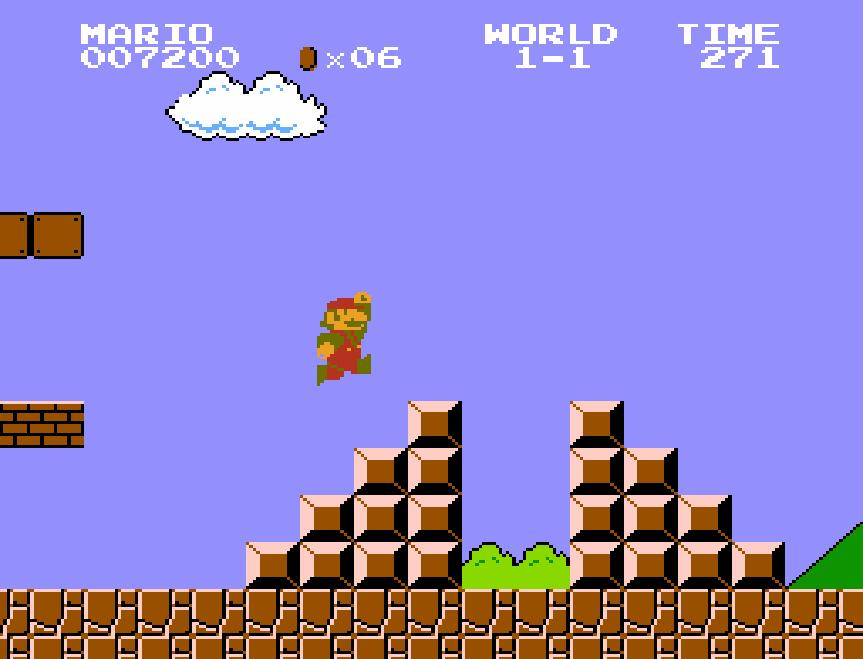big_mario: (314, 289, 372, 388)
